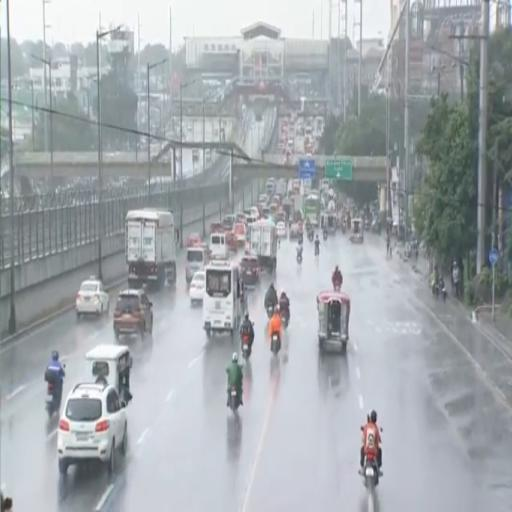bus: (304, 194, 320, 227)
car: (57, 382, 127, 474), (113, 290, 153, 339), (76, 277, 109, 318), (189, 271, 205, 303), (186, 233, 202, 247), (290, 222, 302, 239), (276, 221, 287, 237)
motorcycle: (360, 454, 381, 490), (45, 380, 62, 419), (361, 454, 379, 489), (46, 383, 60, 418), (242, 333, 251, 360), (230, 387, 239, 412), (271, 333, 280, 356), (438, 280, 447, 301), (280, 310, 289, 329), (432, 282, 439, 299), (266, 304, 273, 318), (333, 280, 341, 292), (296, 252, 303, 264), (364, 218, 370, 231), (308, 229, 314, 242), (342, 220, 346, 233), (315, 244, 319, 255), (323, 230, 327, 241)
tricycle: (317, 292, 350, 351), (350, 218, 363, 243)
truck: (126, 208, 176, 289), (248, 219, 278, 271)
